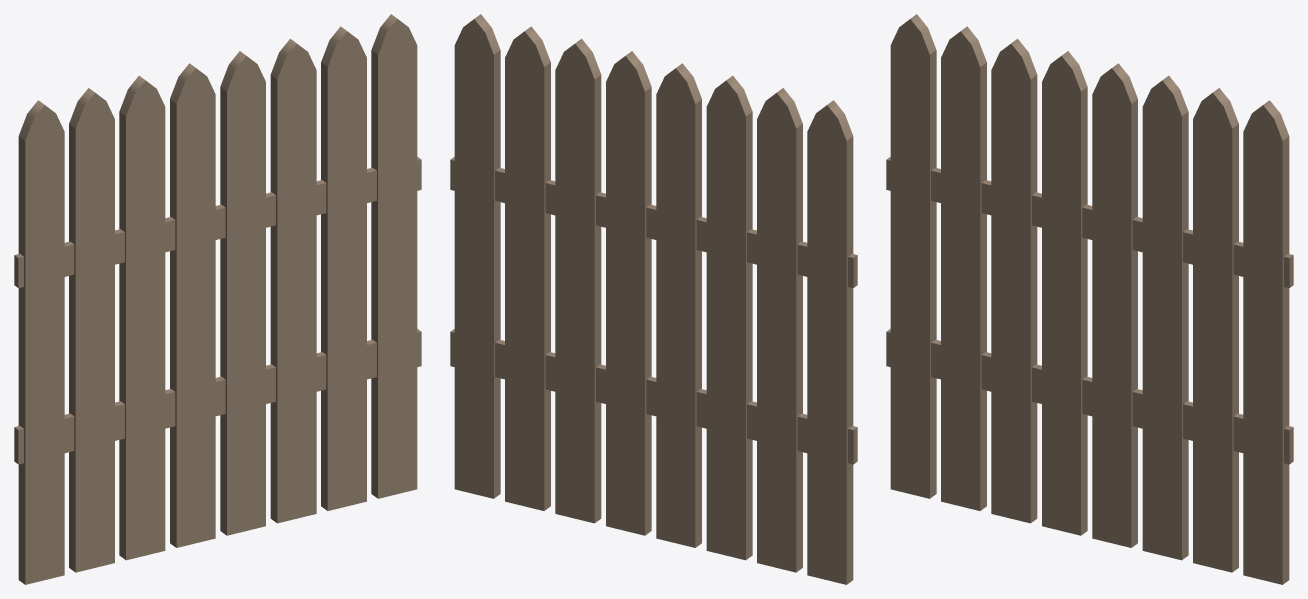
Rendered from Fence_Model_SC.fbx.
3 renders of one model, left to right at view 1: azimuth 30°, elevation 25°; view 2: azimuth 150°, elevation 25°; view 3: azimuth 330°, elevation 25°, orthographic.
Visible parts, largest first — view 1: fence; view 2: fence; view 3: fence.
Part boxes in pixels (x1,y1,x2,y2): fence: (14,14,421,584); fence: (450,14,857,584); fence: (886,14,1293,584).
Size of the model in its own units: 1.87 by 2.1 by 0.0538.
